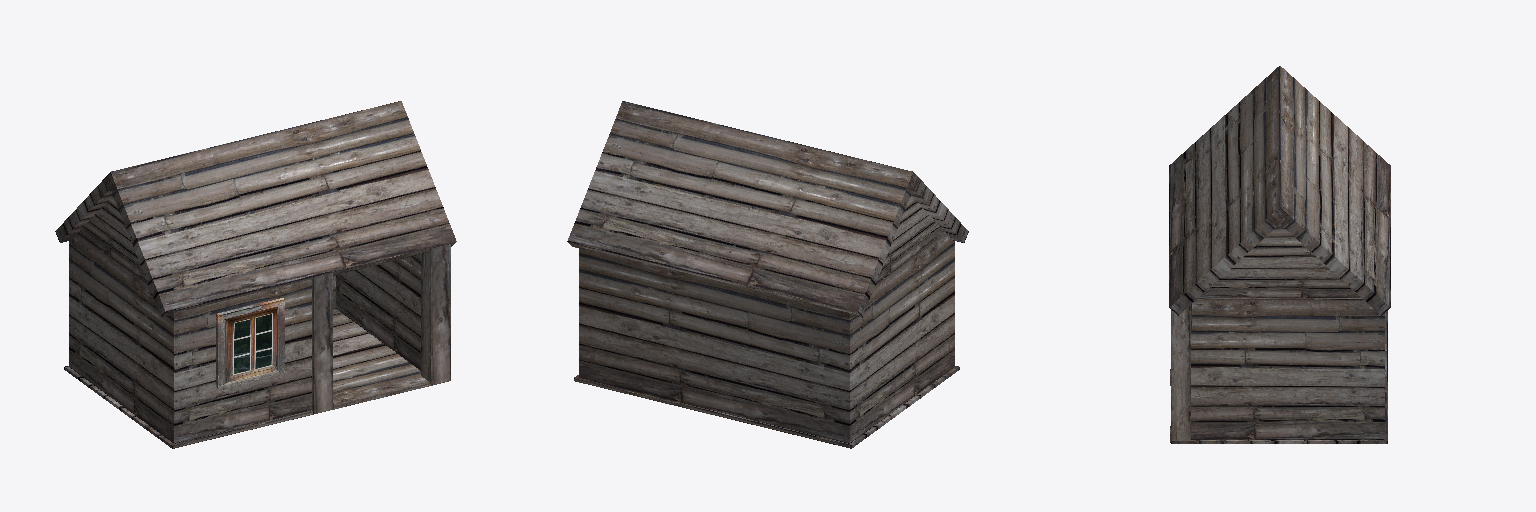
The picture shows the model from 3 angles: view 1: azimuth 30°, elevation 25°; view 2: azimuth 150°, elevation 25°; view 3: azimuth 270°, elevation 25°; orthographic projection.
Parts seen in each view (by area): view 1: RoofFront, Left, Front, Base, Right, Window, DoorwayRight, DoorwayLeft, RoofLeft, RoofBack; view 2: RoofBack, Back, Left, RoofLeft, Base, RoofFront; view 3: Right, RoofFront, RoofBack, RoofRight, DoorwayRight, Base.
Boxes of the visible parts, <box> form: RoofFront: <box>106,101,456,317</box>; Left: <box>70,233,174,443</box>; Front: <box>175,280,311,443</box>; Base: <box>64,309,448,448</box>; Right: <box>336,254,420,370</box>; Window: <box>216,298,284,388</box>; DoorwayRight: <box>421,244,450,384</box>; DoorwayLeft: <box>312,273,333,413</box>; RoofLeft: <box>78,196,146,282</box>; RoofBack: <box>55,101,398,242</box>; RoofBack: <box>567,101,912,317</box>; Back: <box>579,247,849,443</box>; Left: <box>850,233,954,442</box>; RoofLeft: <box>876,196,945,283</box>; Base: <box>574,366,959,448</box>; RoofFront: <box>619,101,968,242</box>; Right: <box>1191,298,1383,439</box>; RoofFront: <box>1169,66,1288,315</box>; RoofBack: <box>1280,66,1390,315</box>; RoofRight: <box>1199,224,1360,297</box>; DoorwayRight: <box>1170,304,1191,442</box>; Base: <box>1171,311,1387,443</box>.
Size of the model in its own units: 6.44 by 5.06 by 4.25.
Materials: 1 (1 with a texture image).